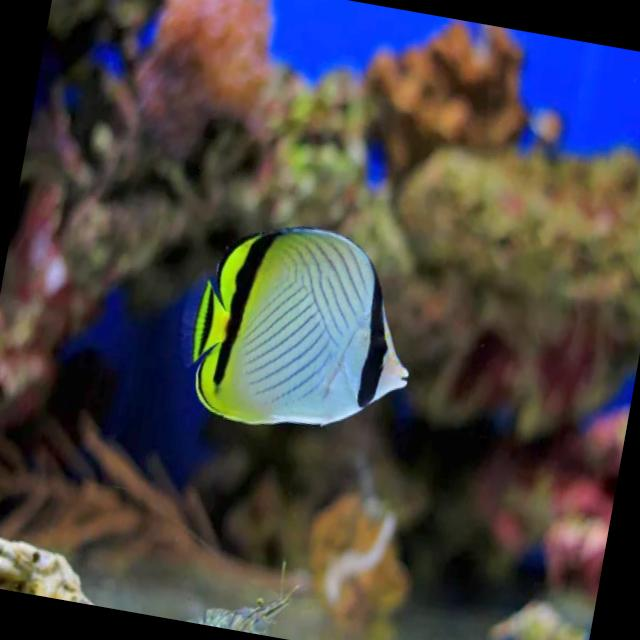ButterflyFish: (172, 210, 430, 452)
